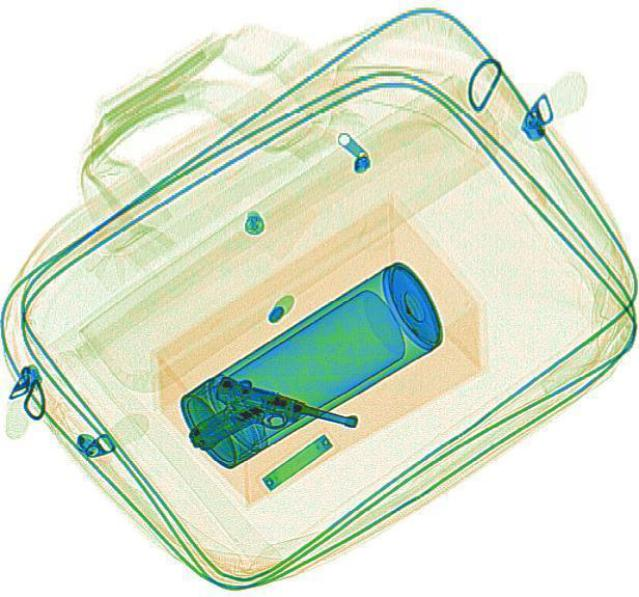Gun: (184, 371, 361, 485)
